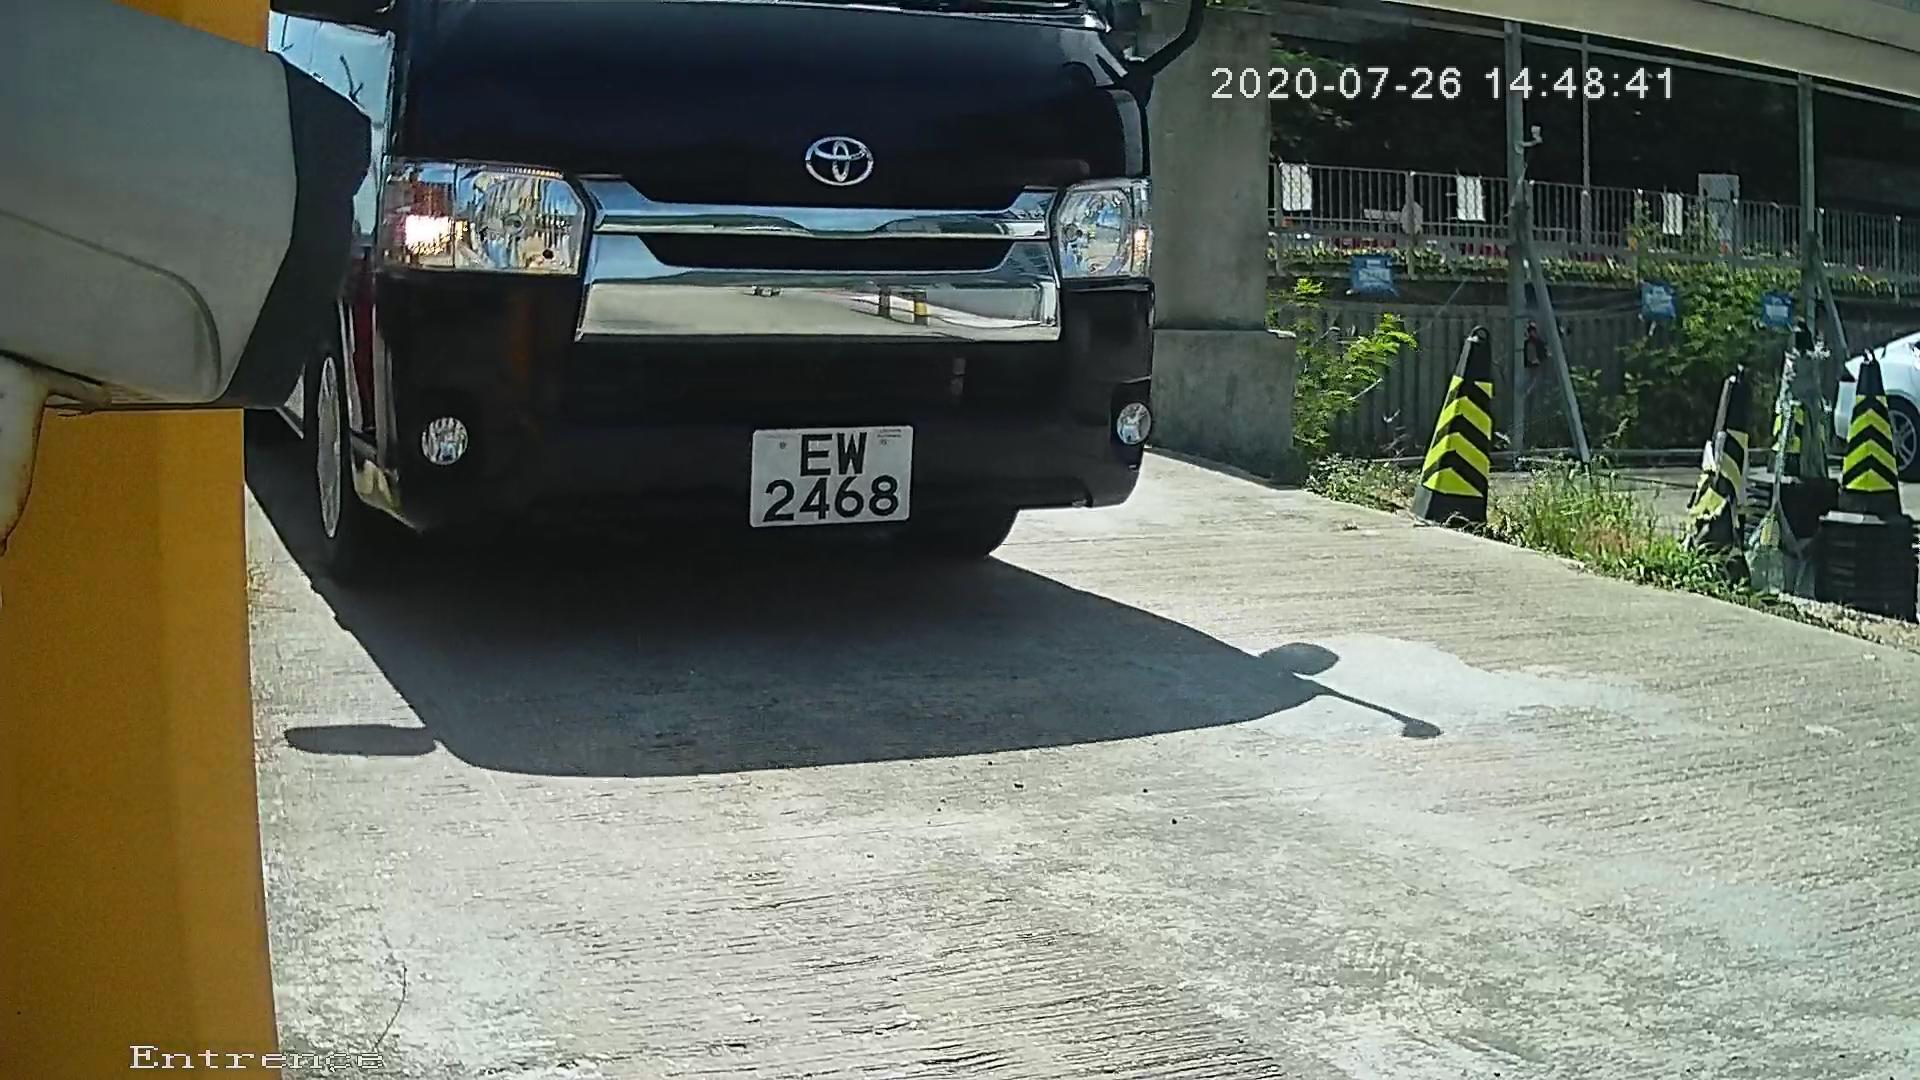privatecar: (258, 1, 1261, 661)
